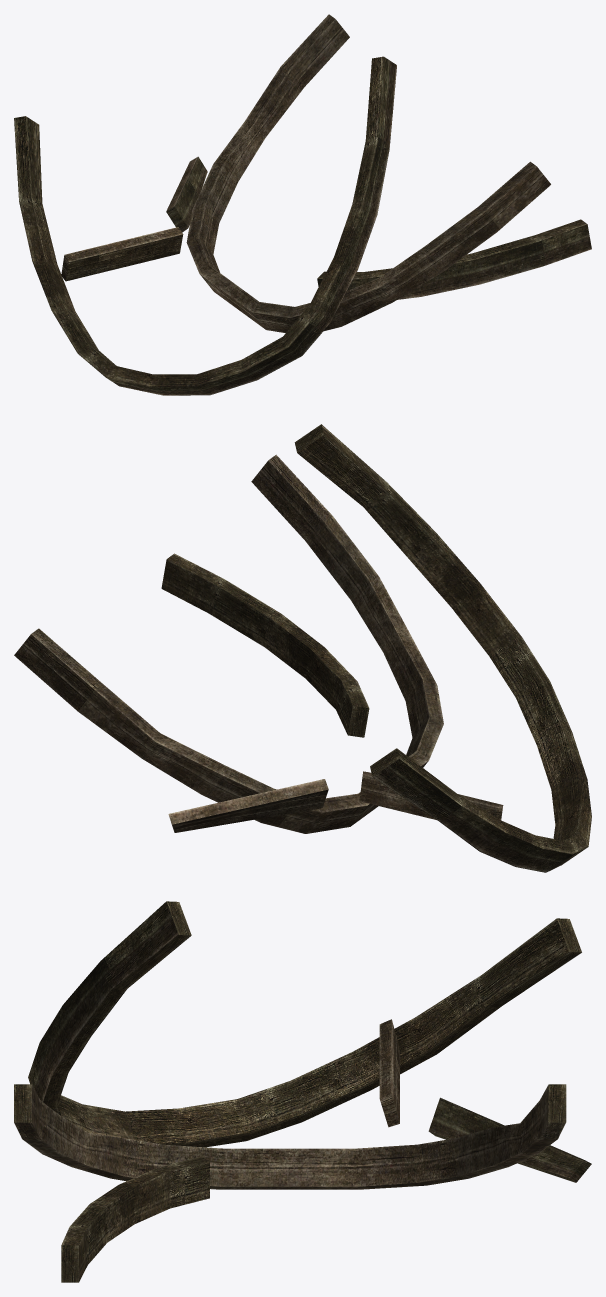
File: ships_broken_piece04.fbx
The picture shows the model from 3 angles, top to bottom: view 1: azimuth 30°, elevation 25°; view 2: azimuth 150°, elevation 25°; view 3: azimuth 270°, elevation 25°; orthographic projection. The views are drawn at different scales.
Parts seen in each view (by area): view 1: ships_broken_piece04; view 2: ships_broken_piece04; view 3: ships_broken_piece04.
Part boxes in pixels (box(x1,y1,x2,y2)): ships_broken_piece04: box(14, 14, 591, 395); ships_broken_piece04: box(14, 424, 591, 872); ships_broken_piece04: box(14, 901, 591, 1282).
Size of the model in its own units: 11.16 by 7.34 by 9.82.
